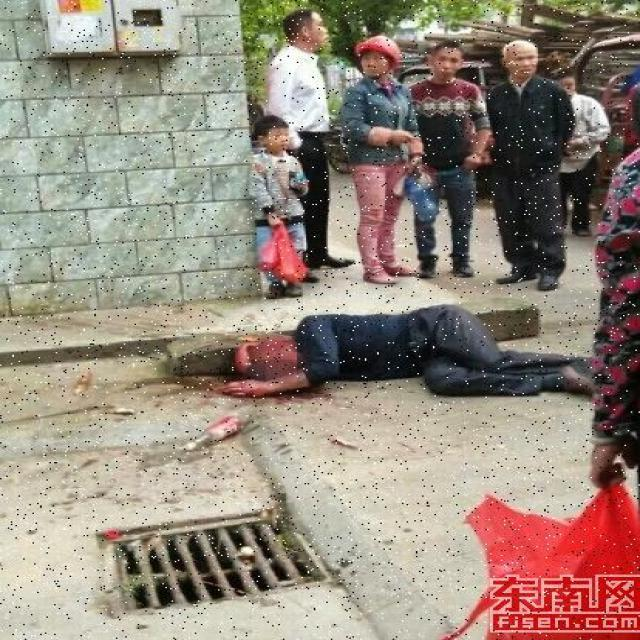fall: (222, 305, 590, 400)
